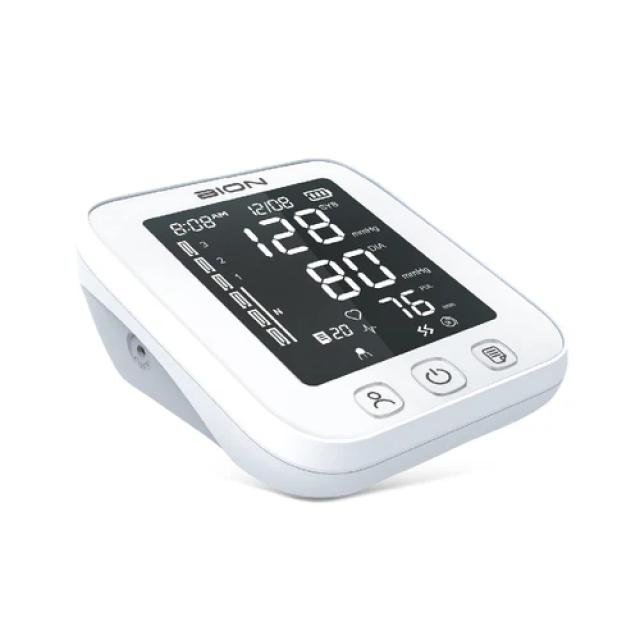dia: (294, 229, 405, 317)
pul: (373, 268, 444, 340)
ssd: (130, 107, 496, 448)
sys: (235, 189, 355, 271)
